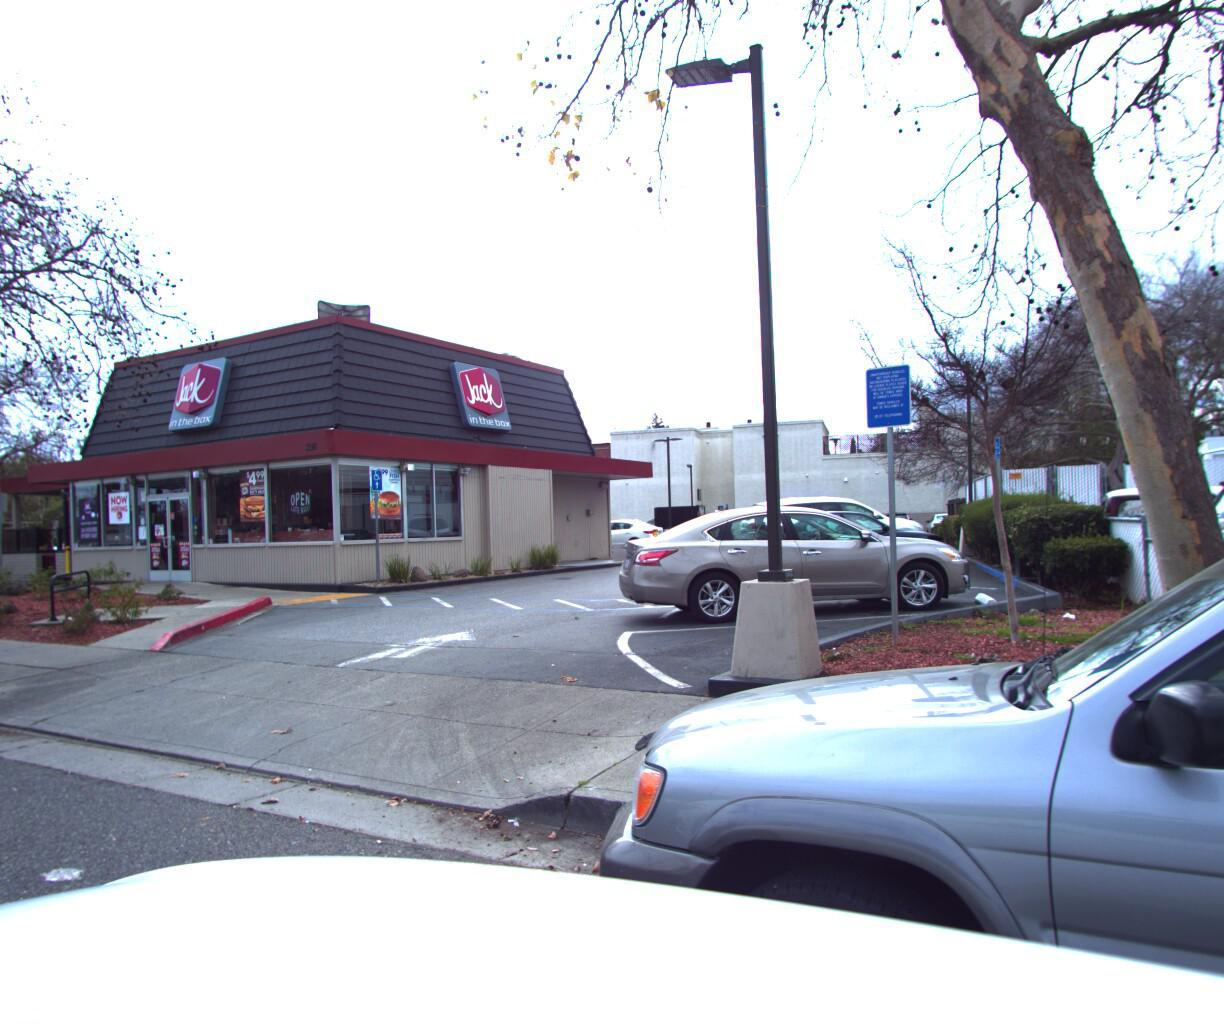car: (471, 0, 1224, 1024), (607, 492, 1000, 624), (1082, 455, 1224, 583), (1188, 439, 1224, 620), (0, 543, 44, 580)
